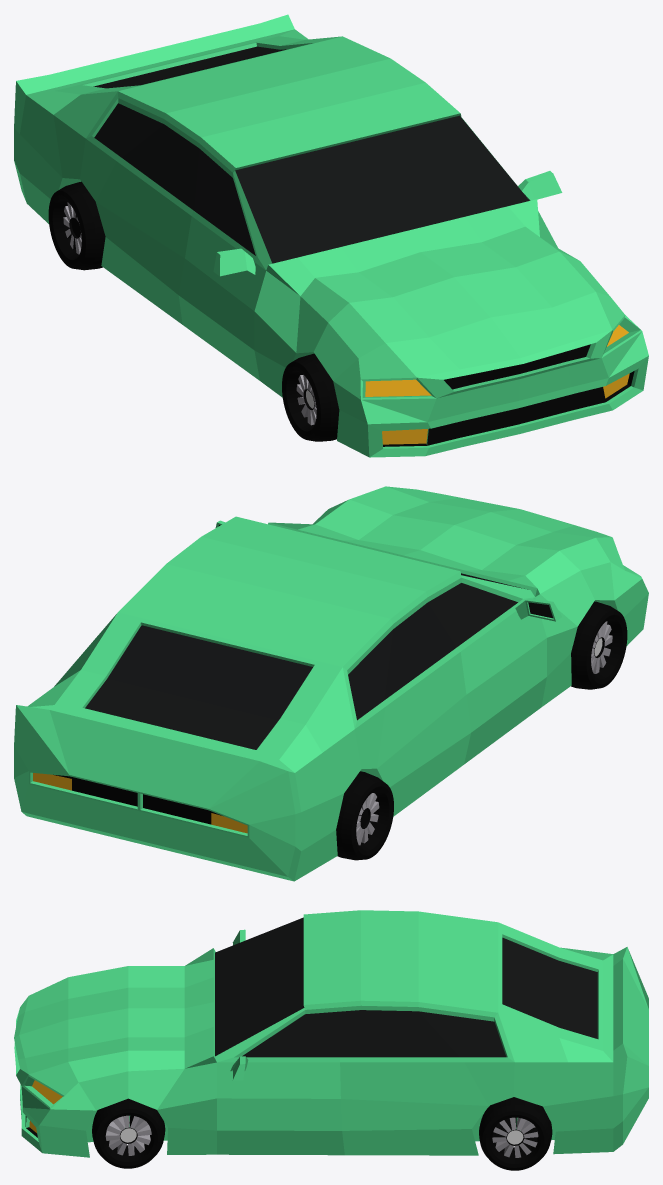
The model's file is auto.fbx.
3 renders of one model, top to bottom at view 1: azimuth 30°, elevation 25°; view 2: azimuth 150°, elevation 25°; view 3: azimuth 270°, elevation 25°, orthographic. The views are drawn at different scales.
Visible parts, largest first — view 1: Cube, Torus, Torus.001; view 2: Cube, Torus.001, Torus; view 3: Cube, Torus.003, Torus.002.
Boxes of the visible parts, x1,y1,x2,y2 form: Cube: (14, 14, 648, 457); Torus: (282, 353, 339, 441); Torus.001: (48, 181, 105, 270); Cube: (14, 486, 648, 881); Torus.001: (336, 771, 393, 860); Torus: (571, 601, 627, 689); Cube: (14, 910, 648, 1157); Torus.003: (479, 1097, 552, 1170); Torus.002: (92, 1098, 165, 1168).
Size of the model in its own units: 255 by 136 by 495.
